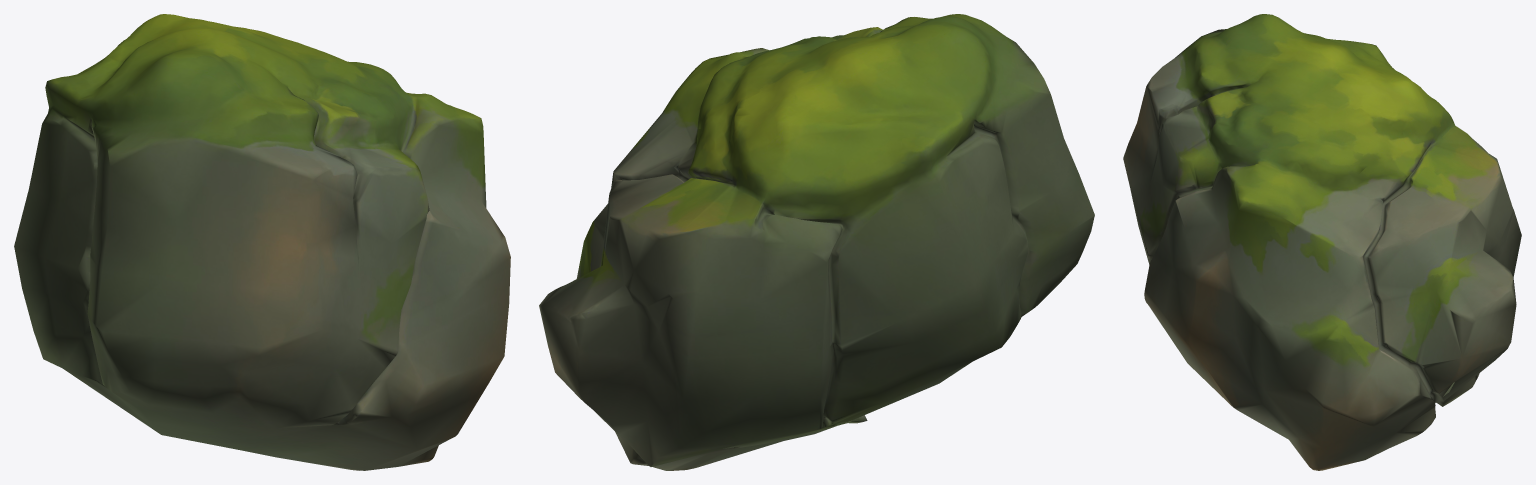
File: Rock_A.fbx
The picture shows the model from 3 angles, left to right: view 1: azimuth 30°, elevation 25°; view 2: azimuth 150°, elevation 25°; view 3: azimuth 270°, elevation 25°; orthographic projection. The views are drawn at different scales.
Parts seen in each view (by area): view 1: Rock_A; view 2: Rock_A; view 3: Rock_A.
Part boxes in pixels (left/top/right/bottom): Rock_A: left=14, top=14, right=510, bottom=470; Rock_A: left=539, top=14, right=1094, bottom=470; Rock_A: left=1123, top=14, right=1521, bottom=470.
Size of the model in its own units: 2.4 by 2.37 by 2.37.
